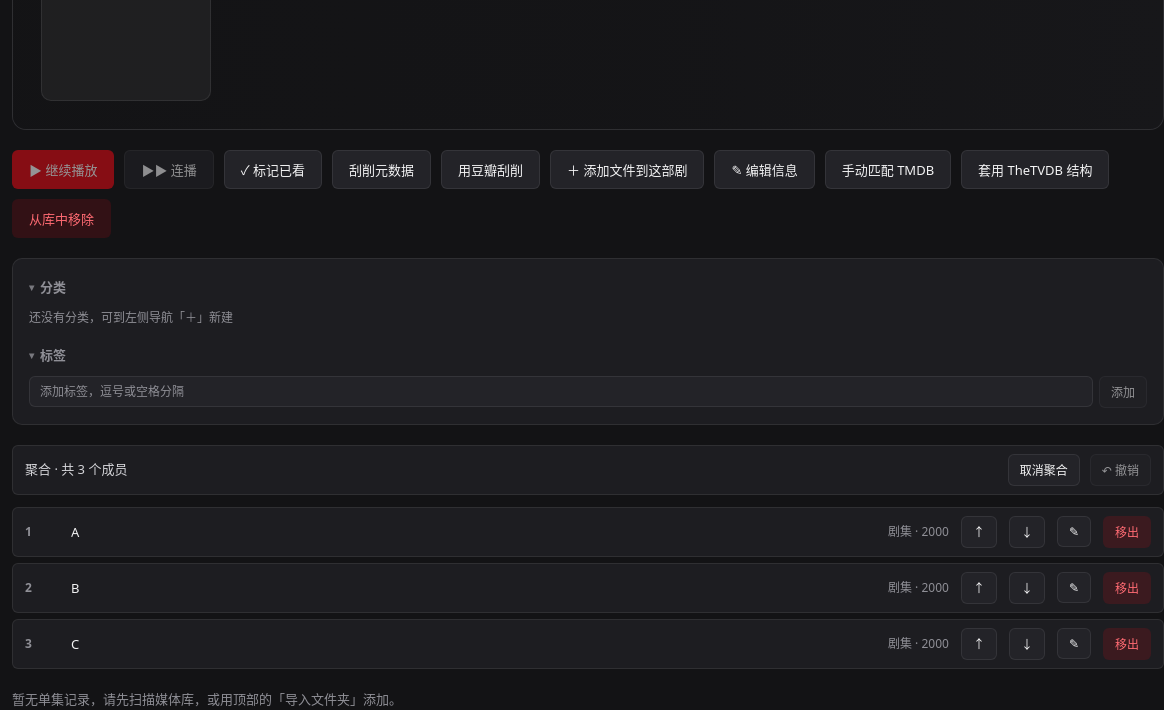
it: MediaDetail 首次 ↑↓：默认次序先落地 › 落库失败：不标记手工、不发第二次移动，并把原因写进提示
(page scrolled)
Click the 1st button "↓".
click(1027, 532)  # box top-left (1009, 516), bottom-right (1045, 548)
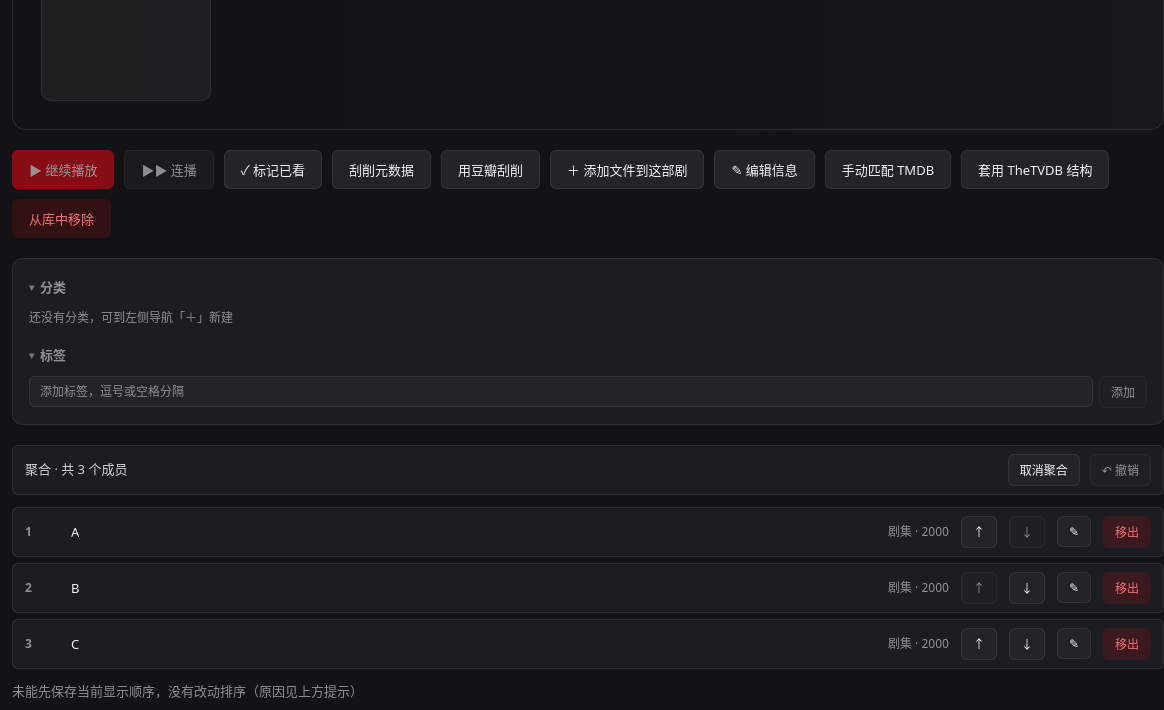
Expected: the elements with class "g-title" read "A", "B", "C", in this order, top-left (71, 523), bottom-right (876, 541); top-left (71, 579), bottom-right (876, 597); top-left (71, 635), bottom-right (876, 653)
Now the text "未能先保存当前显示顺序，没有改动排序（原因见上方提示）" is shown, box top-left (12, 682), bottom-right (363, 700)
